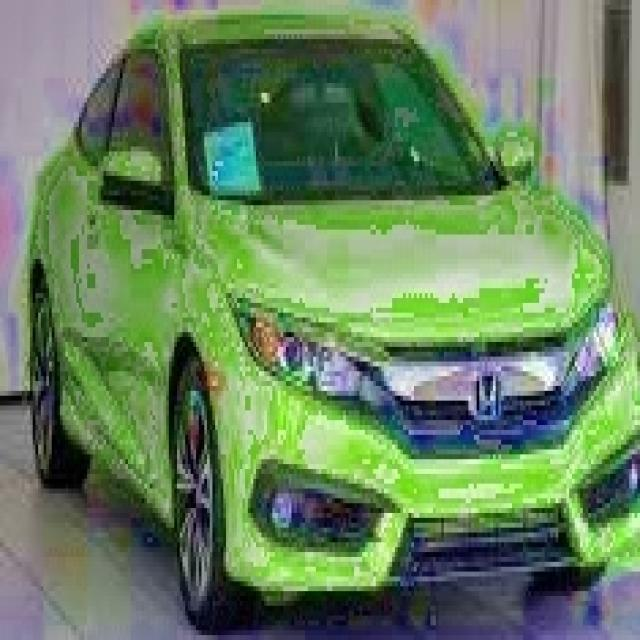green: (30, 17, 640, 628)
